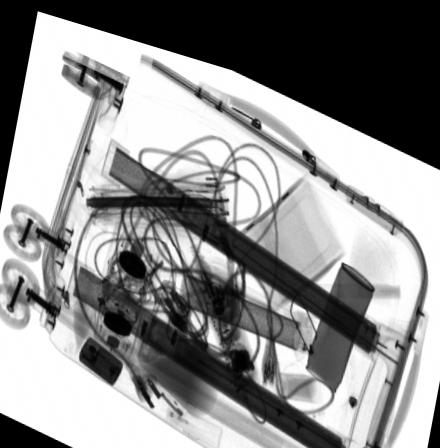Lighter: (78, 329, 122, 378)
